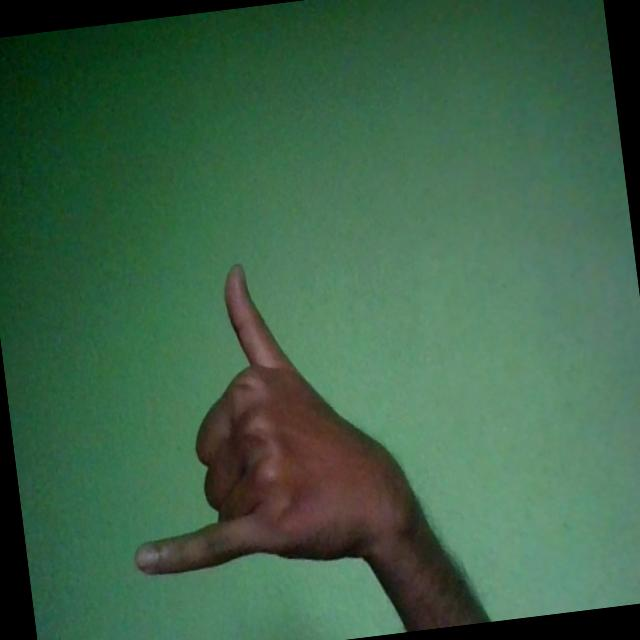Call Me: (102, 244, 430, 588)
